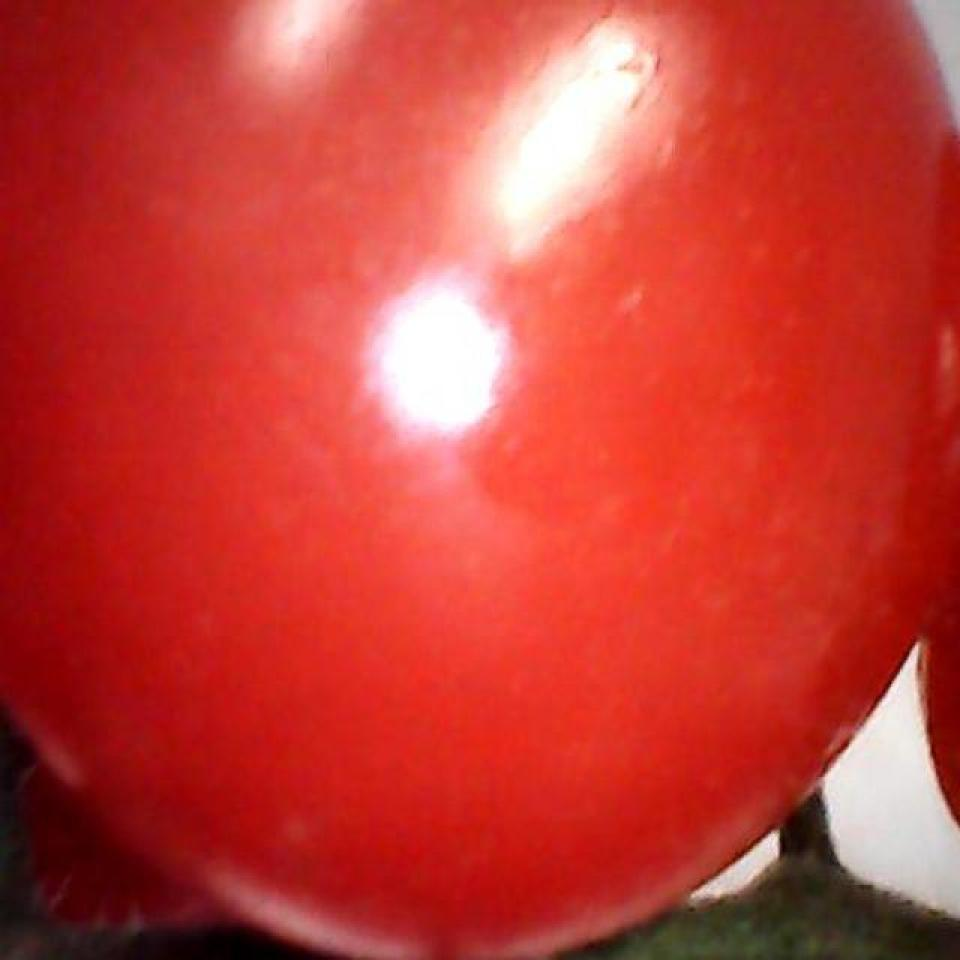Healthy: (0, 6, 960, 960)
